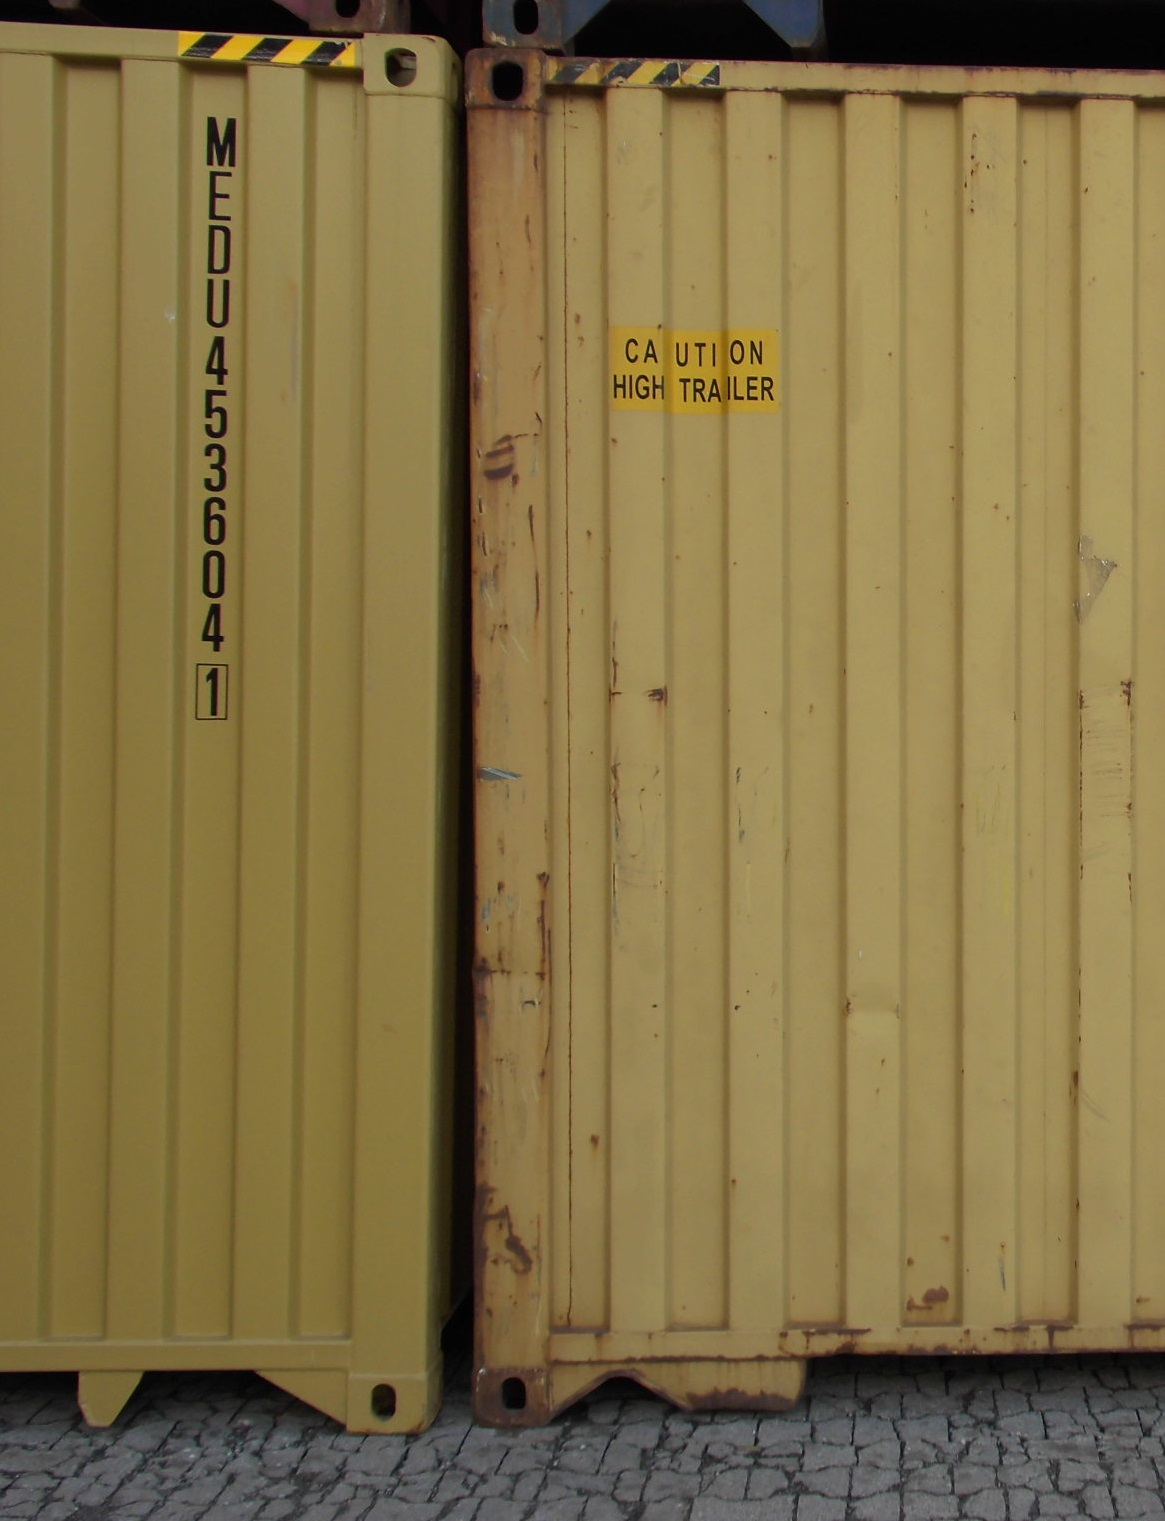container_no_door: (474, 43, 1165, 1419), (9, 34, 439, 1443)
